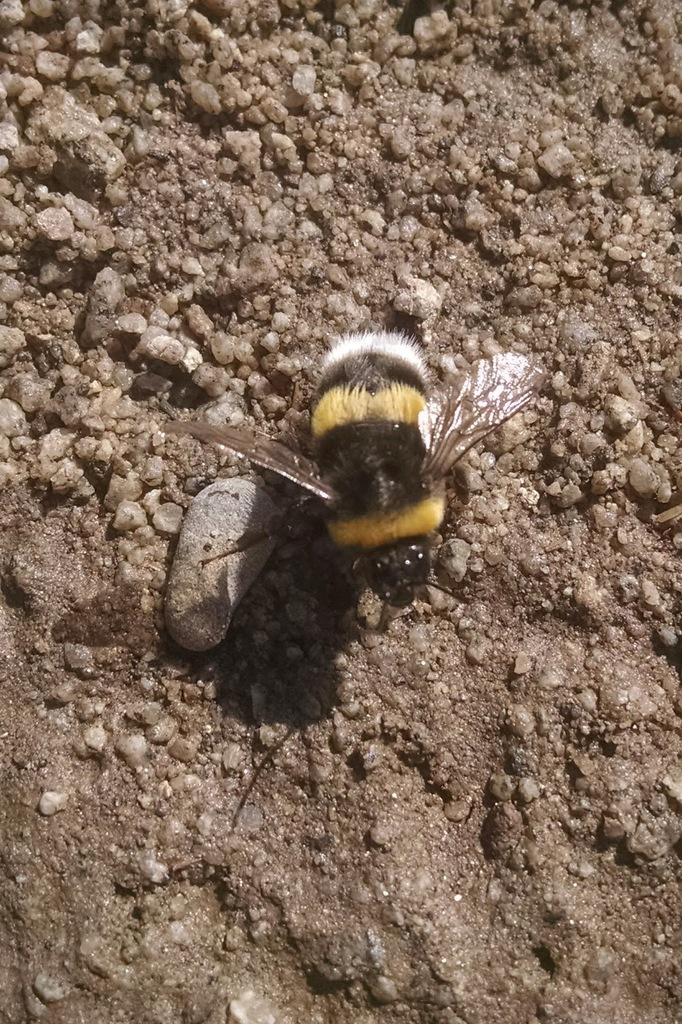bumblebee: (159, 328, 538, 607)
